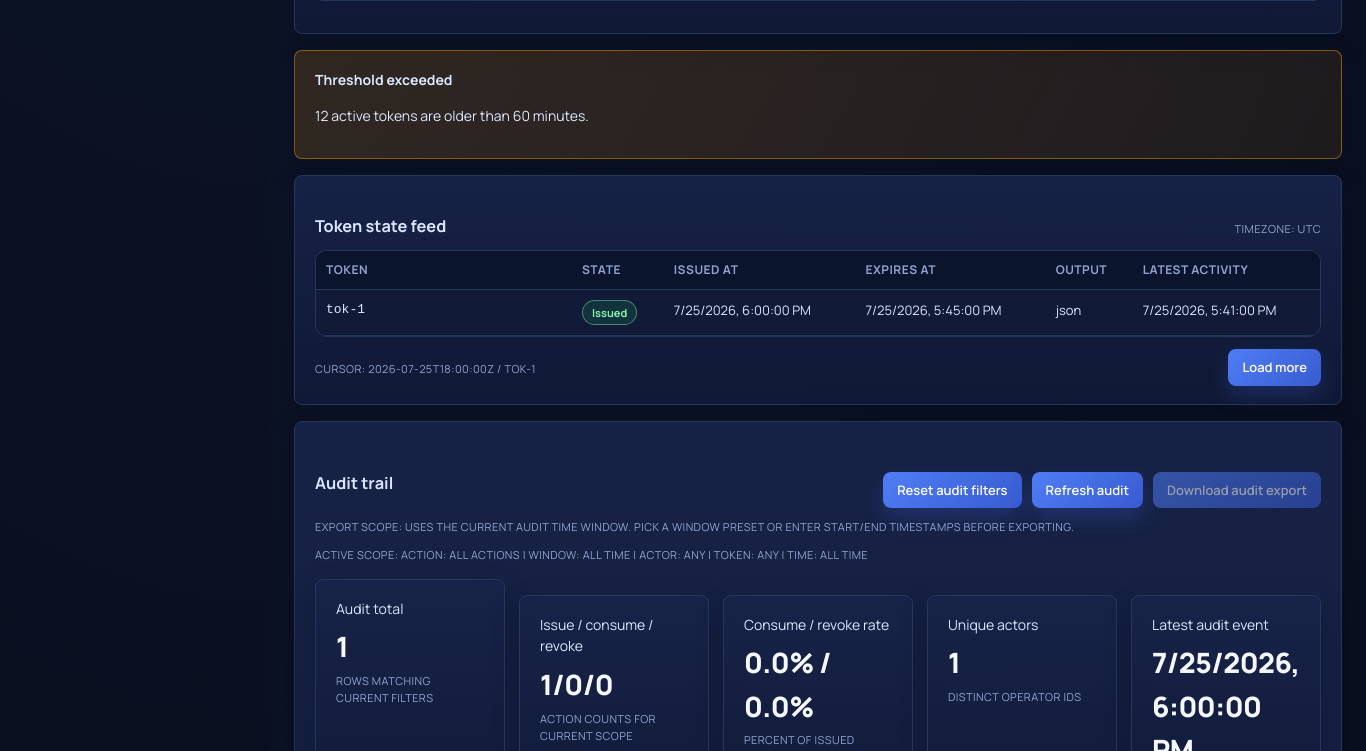
it: Intake replay token observability page › loads envelope list plus alerts and supports cursor-based load more
The image size is (1366, 751).
(page scrolled)
Expected: the text "Threshold exceeded" is shown, [315,70,452,89]
Expected: the text "Audit total" is shown, [336,599,403,618]
Click the button "Load more".
click(1275, 367)  # box [1228,349,1321,386]
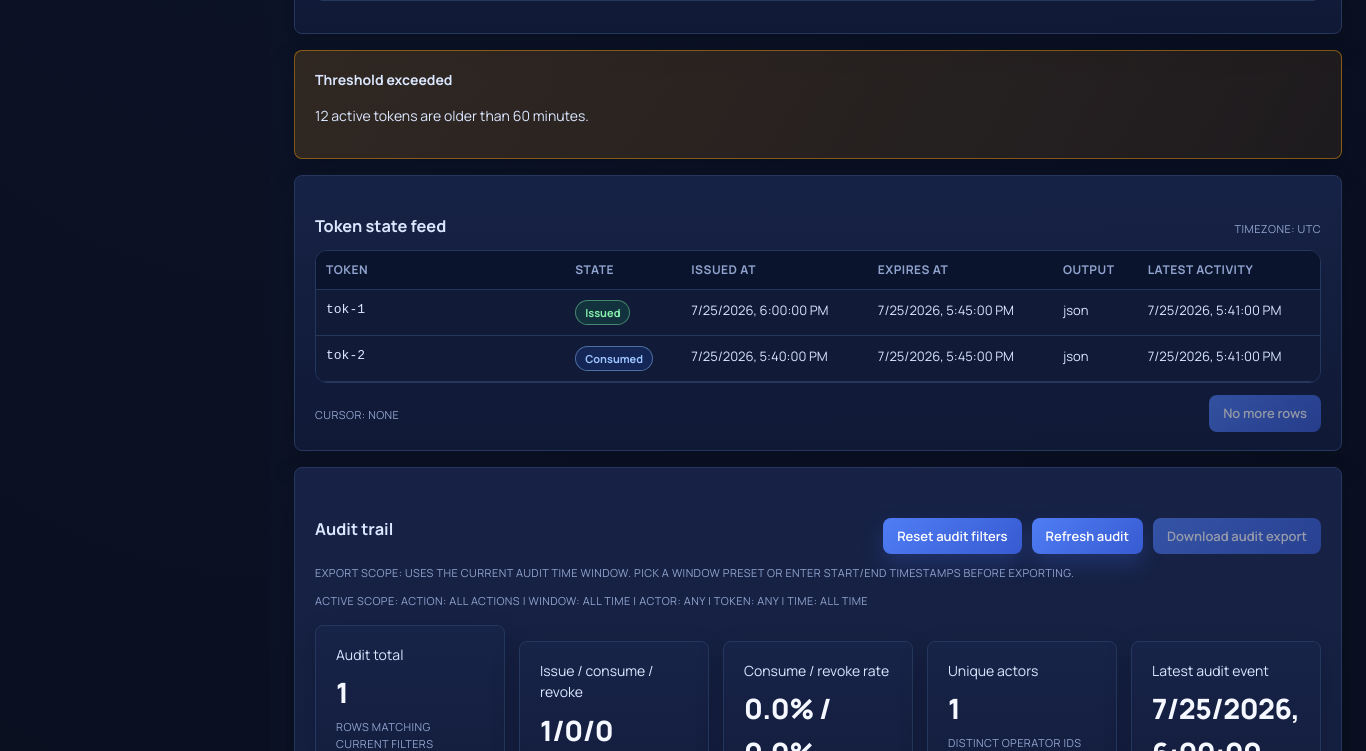
Expected: the text "tok-2" is shown, [316,336,565,382]
Expected: the button "No more rows" is disabled, [1209,395,1321,432]
